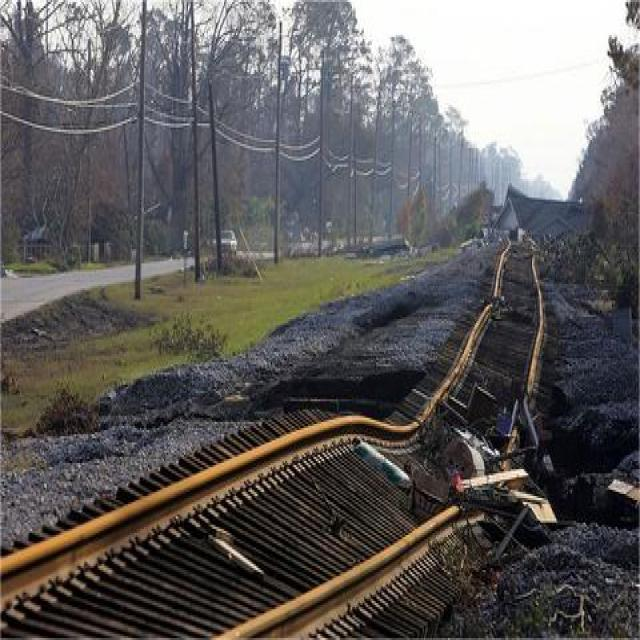Branches: (445, 454, 538, 504)
